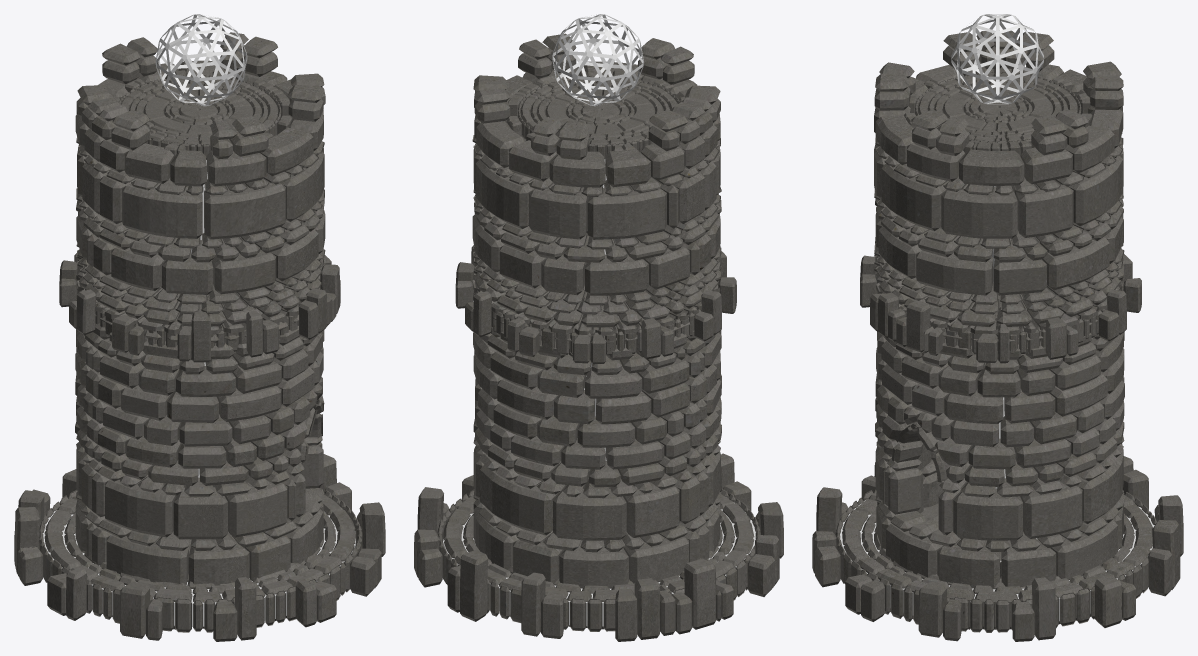
File: tower 1.fbx
3 renders of one model, left to right at view 1: azimuth 30°, elevation 25°; view 2: azimuth 150°, elevation 25°; view 3: azimuth 270°, elevation 25°, orthographic.
Visible parts, largest first — view 1: Wall.018, Wall.017, Wall.012, Wall.013, Wall.002, Icosphere, Circle.001; view 2: Wall.018, Wall.017, Wall.012, Wall.013, Wall.002, Icosphere, Circle.001; view 3: Wall.018, Wall.017, Wall.012, Wall.013, Wall.002, Icosphere, Circle.001.
Boxes of the visible parts, x1,y1,x2,y2 form: Wall.018: (75,32,325,359); Wall.017: (75,329,324,585); Wall.012: (14,454,385,641); Wall.013: (59,248,340,362); Wall.002: (113,70,292,159); Icosphere: (155,14,247,106); Circle.001: (42,510,355,626); Wall.018: (472,33,721,360); Wall.017: (473,330,721,588); Wall.012: (414,453,783,641); Wall.013: (455,245,736,363); Wall.002: (506,70,685,159); Icosphere: (552,14,643,106); Circle.001: (443,502,755,626); Wall.018: (874,30,1124,359); Wall.017: (875,332,1125,588); Wall.012: (812,456,1183,641); Wall.013: (860,237,1141,363); Wall.002: (904,67,1092,156); Icosphere: (951,14,1043,104); Circle.001: (840,500,1154,620).
Bounding box in the file's own units: 2188 × 3569 × 2187.
